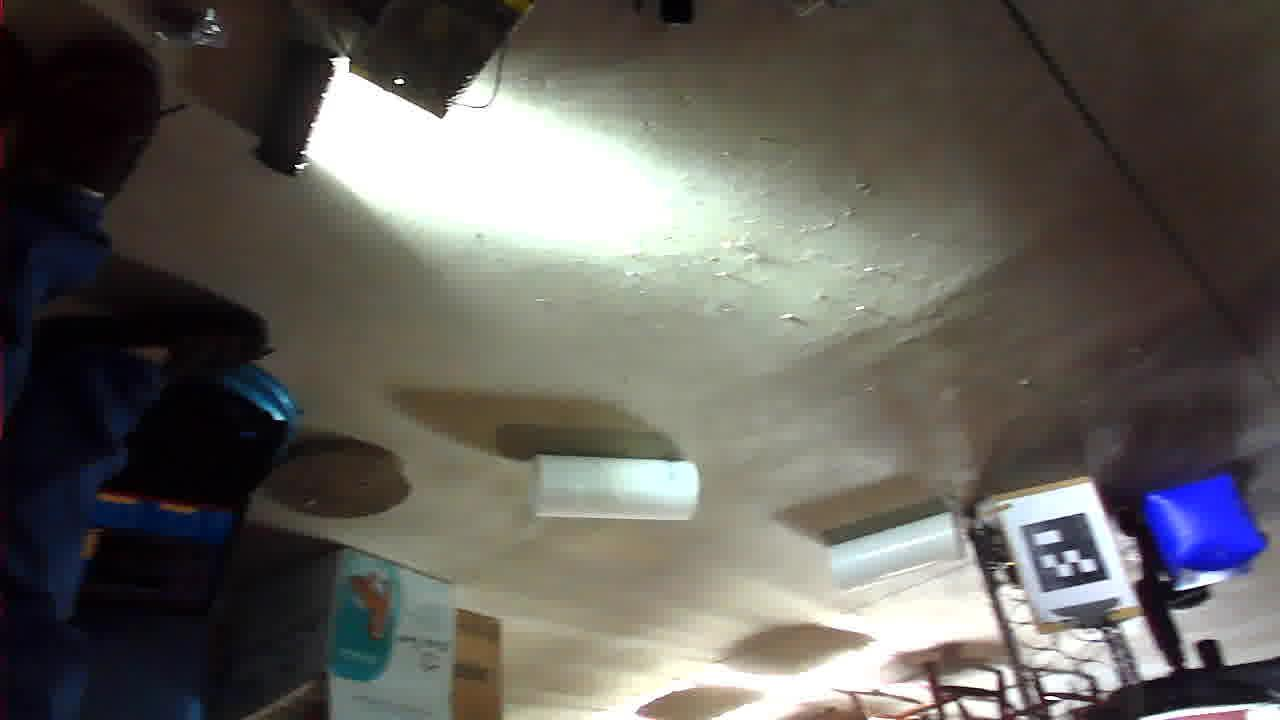coral: (304, 133, 469, 208), (583, 199, 746, 265)
